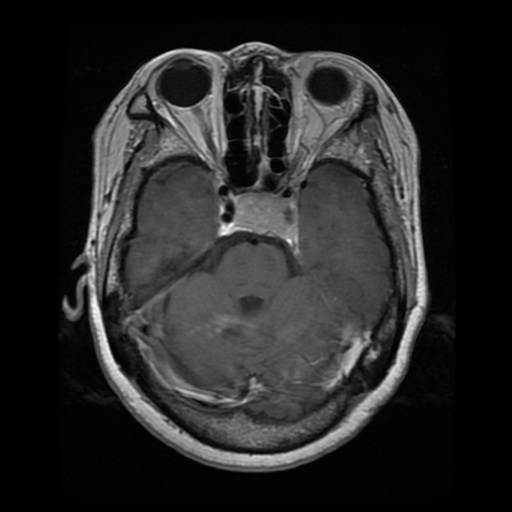pituitary: (231, 194, 288, 235)
